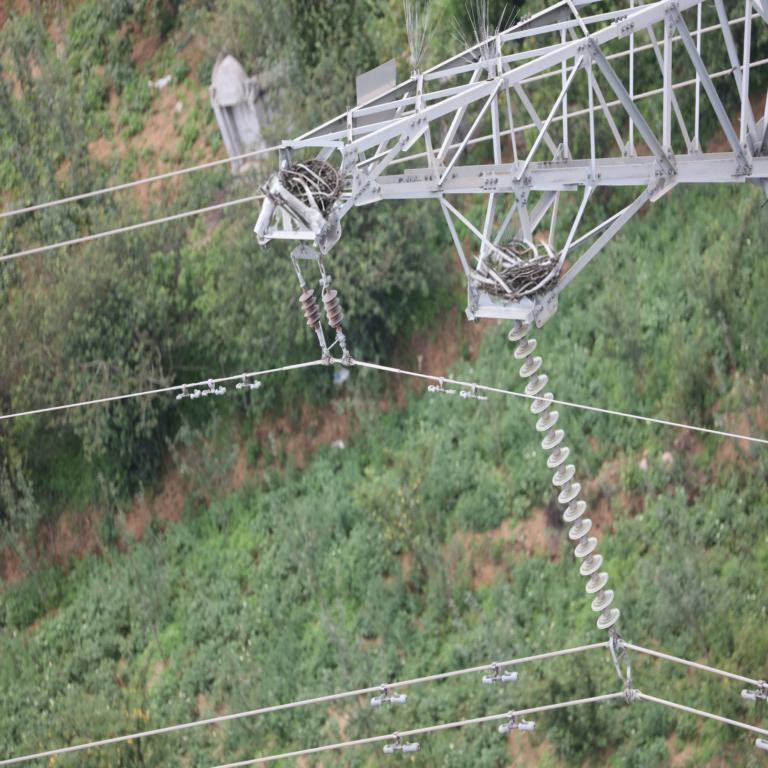nest: (476, 241, 556, 297), (271, 161, 343, 216)
